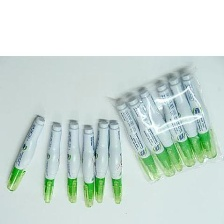correction_fluid: (125, 93, 177, 178), (114, 99, 163, 182), (137, 86, 183, 174), (165, 74, 208, 167), (154, 80, 198, 170), (178, 70, 218, 161), (4, 114, 44, 193), (41, 121, 63, 204), (63, 120, 83, 204), (105, 120, 124, 206), (92, 118, 110, 205), (81, 124, 96, 208)
